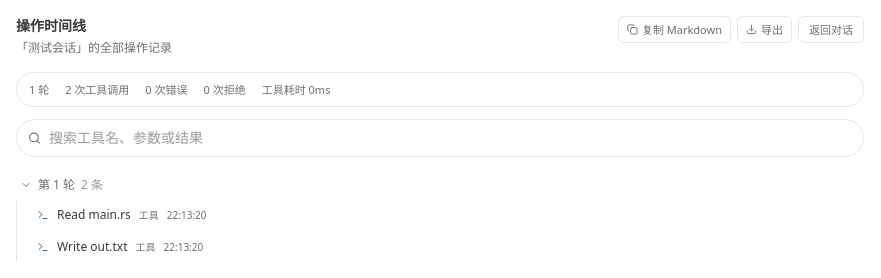
Test: 操作时间线 › 搜索按标题与详情过滤
Expected: the text "Read main.rs" is shown, [57, 207, 131, 223]
Step 1. Type "needle" into the field named "搜索时间线" → x=440, y=138, box [16, 119, 864, 157]
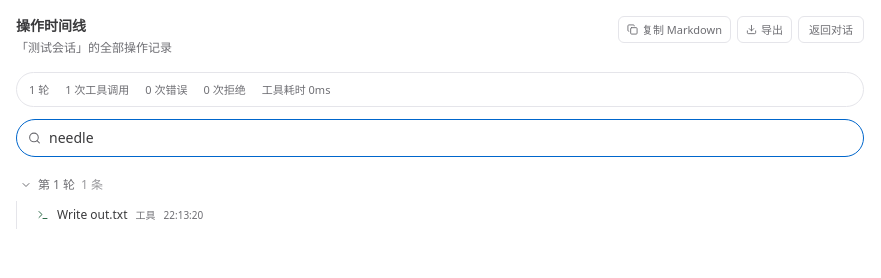
Expected: the text "Write out.txt" is shown, [57, 207, 128, 223]
Result: the button "Read main.rs" is gone
